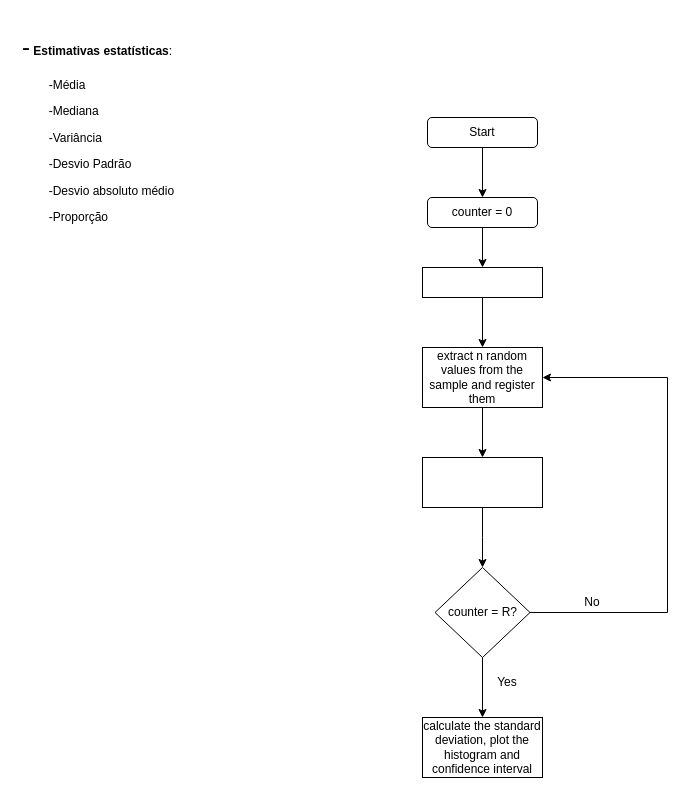
The diagram is 693 pixels wide and 795 high, and some of its shapes have lost their labels. The box of each missing label's shape, as (x1, y1, x2, y2) in pixels:
calculate the estimate of this new sample: (422, 456, 542, 508)
choose statistical estimate: (422, 266, 542, 298)
